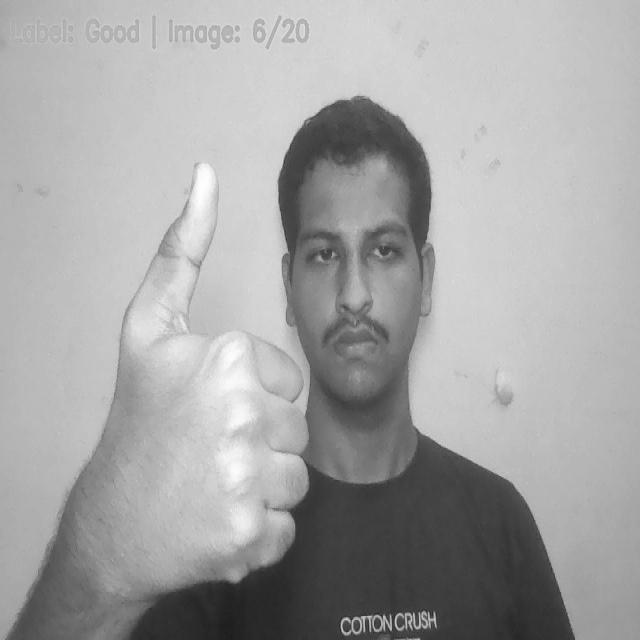Good: (105, 163, 310, 592)
